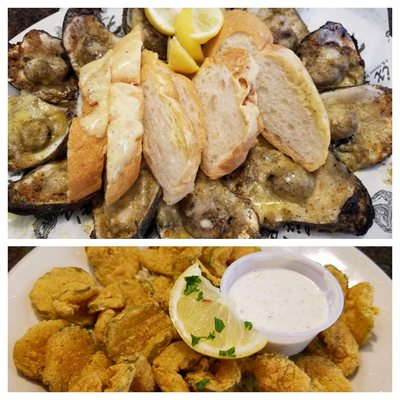soup: (320, 84, 392, 173)
sushi: (220, 249, 346, 357)
